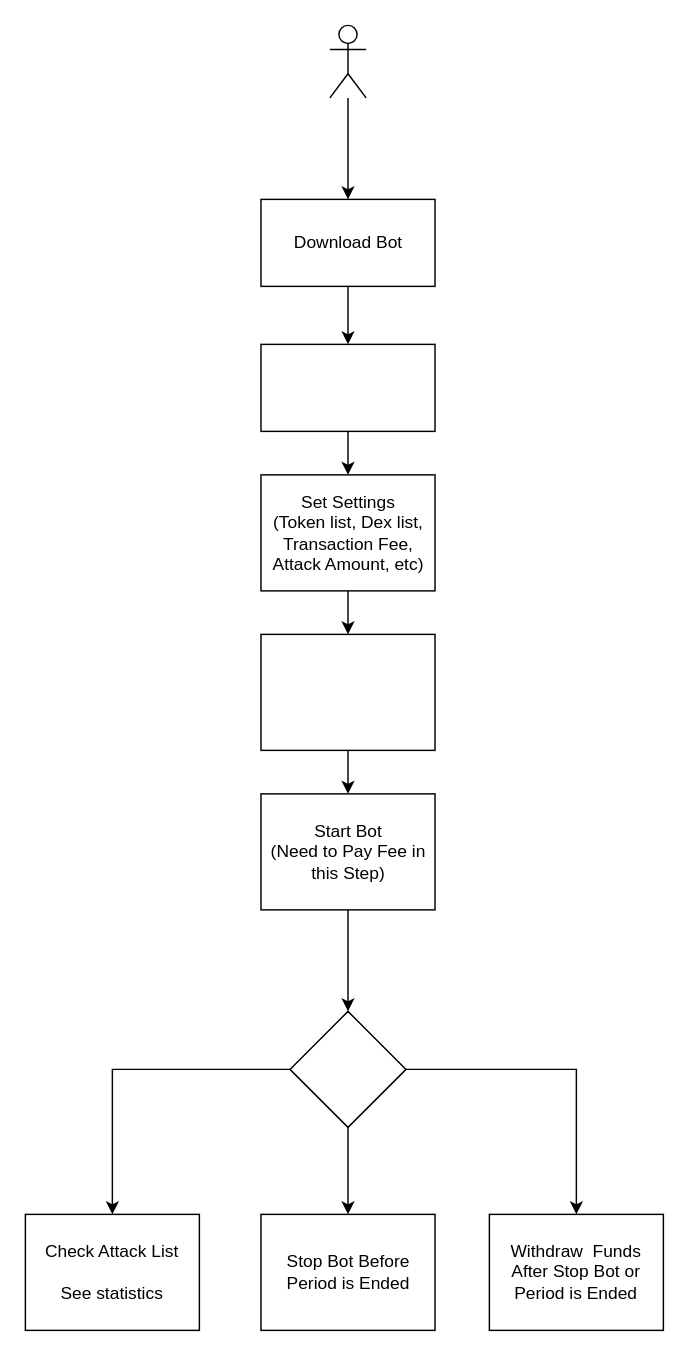
This 689x1356 diagram has some shape labels left out. Here are the shapes that lost their labels. From the top down, the box of each, then its label:
(328, 24, 366, 98): User
(260, 343, 435, 431): Set Wallet
(260, 633, 435, 750): Deposit Funds for Trading
